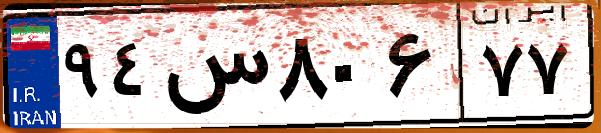0: (330, 28, 385, 110)
4: (110, 28, 158, 98)
6: (385, 28, 445, 110)
7: (475, 38, 525, 113), (525, 38, 570, 115)
8: (270, 28, 330, 110)
9: (57, 26, 110, 100)
س: (158, 20, 270, 120)
